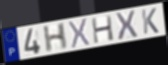4: (23, 26, 43, 56)
H: (42, 21, 69, 54), (90, 14, 116, 45)
K: (140, 7, 160, 36)
X: (114, 9, 140, 42), (67, 17, 91, 49)
